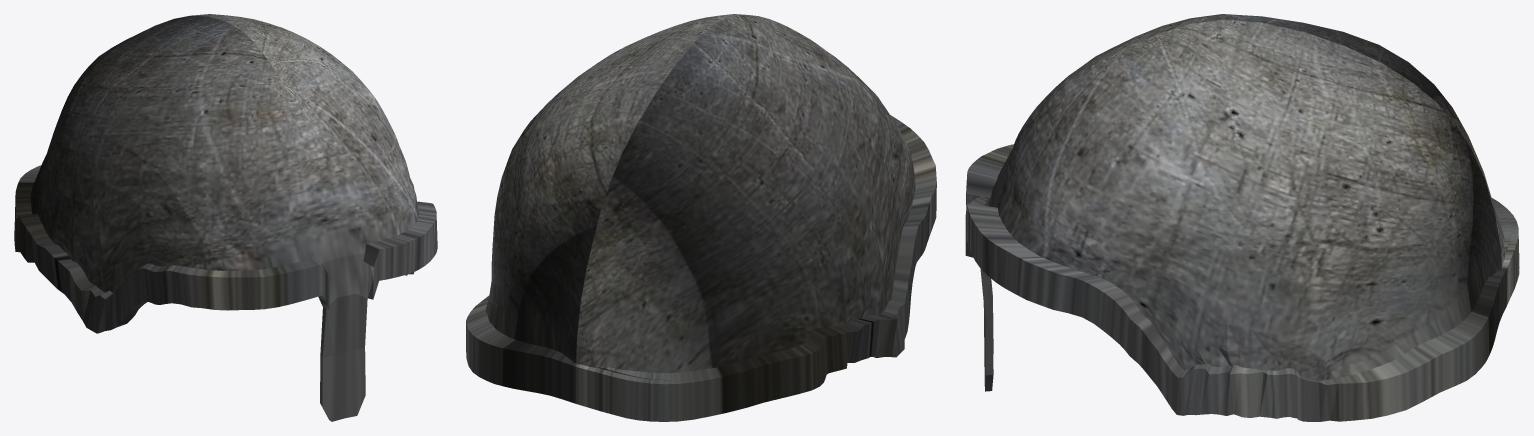
Rendered from mhw_javherre_casco_caballero_templario_templar_knight_helmet.glb.
The picture shows the model from 3 angles, left to right: view 1: azimuth 30°, elevation 25°; view 2: azimuth 150°, elevation 25°; view 3: azimuth 270°, elevation 25°; orthographic projection. The views are drawn at different scales.
Visible parts, largest first — view 1: mhw_javherre_casco_caballero_templario_templar_knight_helmet; view 2: mhw_javherre_casco_caballero_templario_templar_knight_helmet; view 3: mhw_javherre_casco_caballero_templario_templar_knight_helmet.
Boxes of the visible parts, left/top/right/bottom form: mhw_javherre_casco_caballero_templario_templar_knight_helmet: left=14, top=14, right=437, bottom=421; mhw_javherre_casco_caballero_templario_templar_knight_helmet: left=466, top=14, right=936, bottom=421; mhw_javherre_casco_caballero_templario_templar_knight_helmet: left=965, top=14, right=1519, bottom=421.
Size of the model in its own units: 0.2303 by 0.2122 by 0.2919.
1 material, 1 textured.
